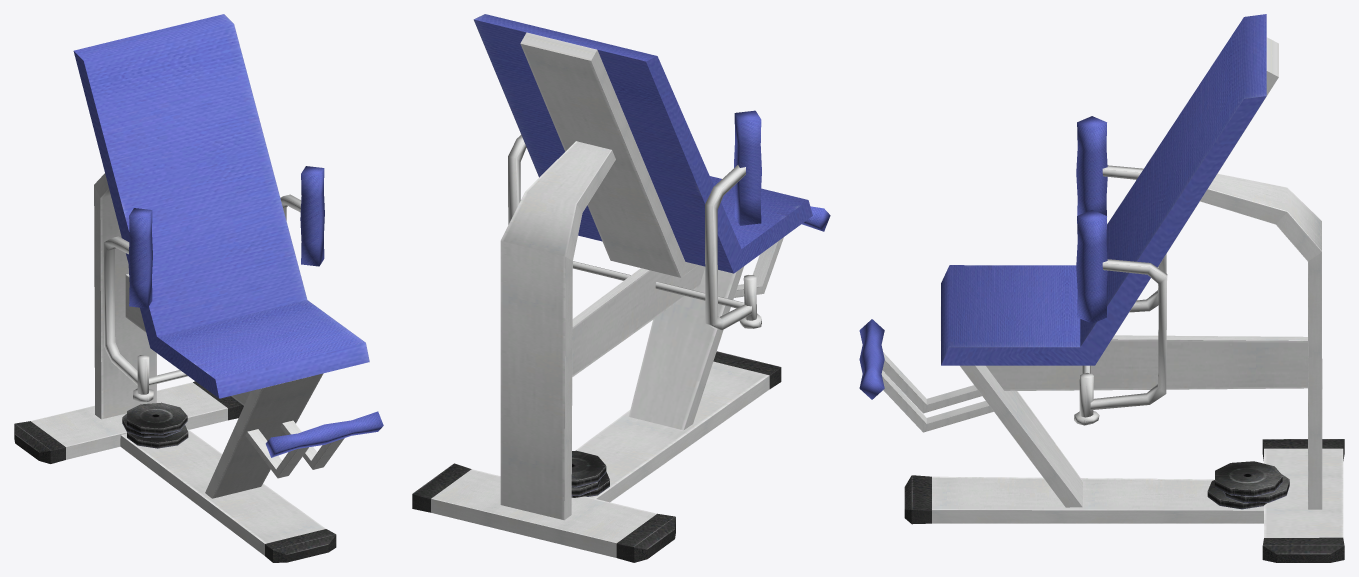
File: M_Home_Garden_Fitnes03.fbx
3 renders of one model, left to right at view 1: azimuth 30°, elevation 25°; view 2: azimuth 150°, elevation 25°; view 3: azimuth 270°, elevation 25°, orthographic. The views are drawn at different scales.
Visible parts, largest first — view 1: M_Home_Garden_Fitnes03; view 2: M_Home_Garden_Fitnes03; view 3: M_Home_Garden_Fitnes03.
Boxes of the visible parts, x1,y1,x2,y2 form: M_Home_Garden_Fitnes03: (14, 14, 383, 562); M_Home_Garden_Fitnes03: (412, 14, 830, 562); M_Home_Garden_Fitnes03: (859, 14, 1344, 562).
Size of the model in its own units: 67.5 by 128 by 124.
